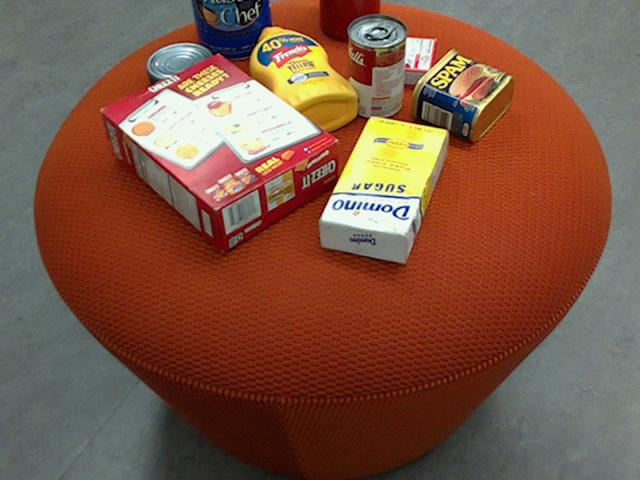cracker_box: (98, 51, 338, 249)
gelatin_box: (360, 35, 437, 87)
large_marker: (342, 0, 357, 32)
master_chef_can: (190, 0, 273, 58)
mug: (318, 0, 380, 39)
mustard_bottle: (248, 26, 356, 135)
potted_meat_can: (408, 49, 511, 141)
sugar_box: (319, 115, 447, 264)
tomato_soup_can: (347, 13, 407, 118)
tuna_fish_can: (143, 42, 216, 101)
